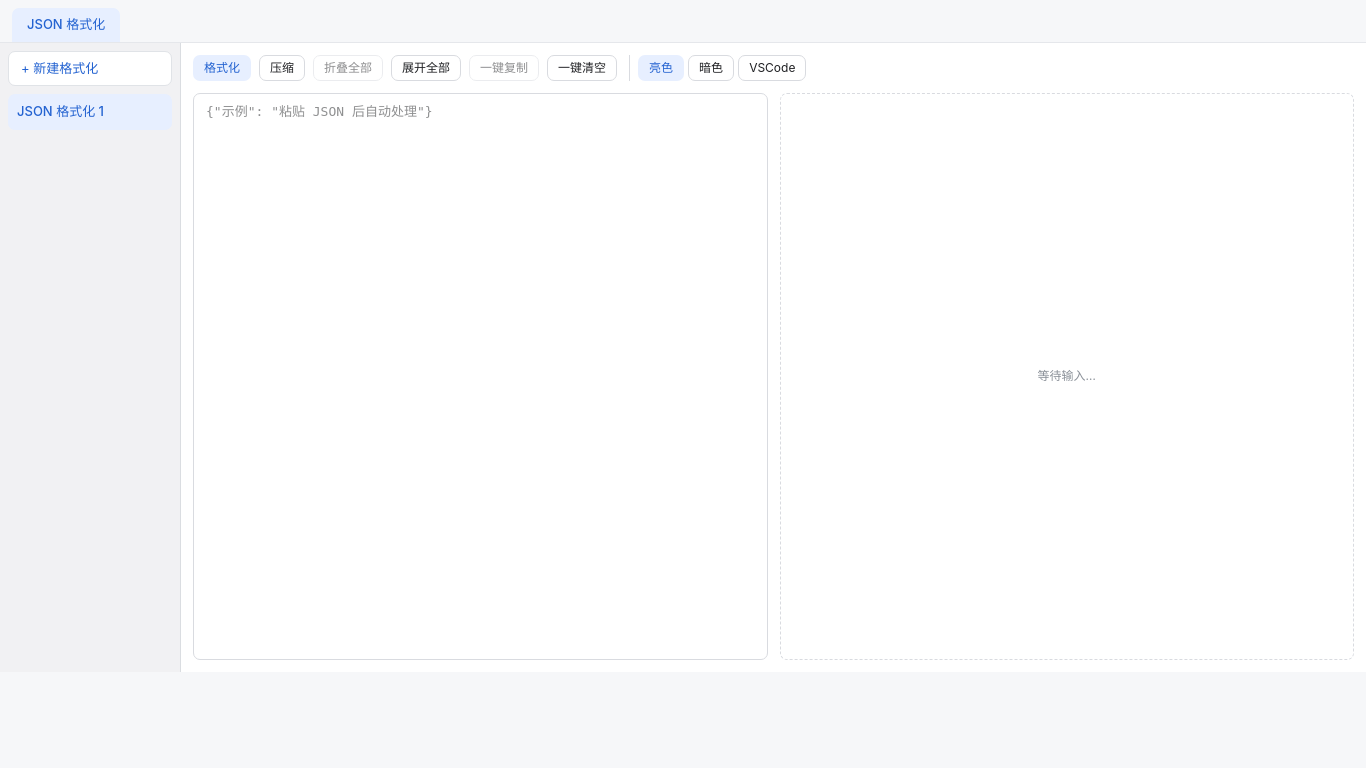
ToolsPage JSON 工具 › renames a tab by double-clicking its title and confirms with Enter
This screenshot has width=1366, height=768.
Check: the text box named "JSON 输入" is shown, box 193,92 -> 768,660
Double-click the button "JSON 格式化 1" at (77, 112), box 9,95 -> 145,128
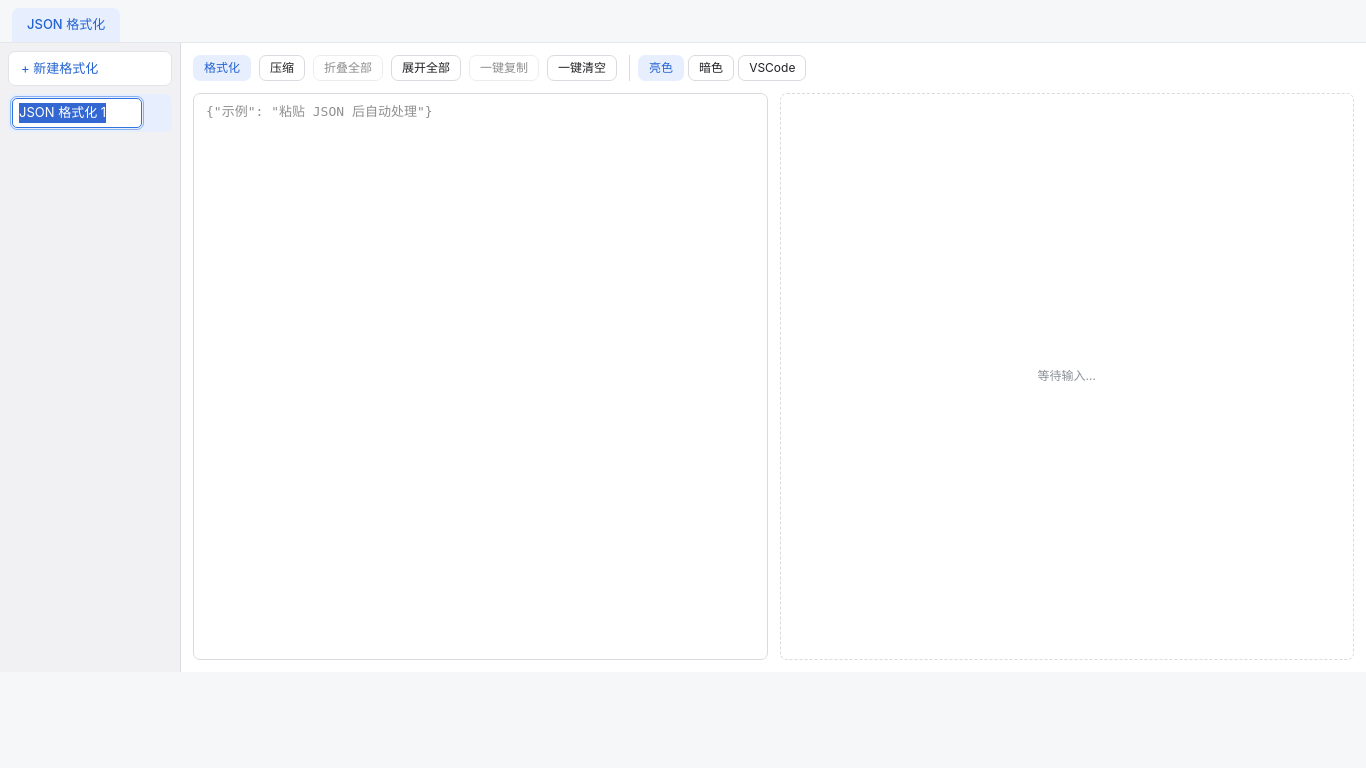
Replace the text in the field named "页签名称" with "接口数据" at (77, 113), box 12,98 -> 142,128
Then press Enter
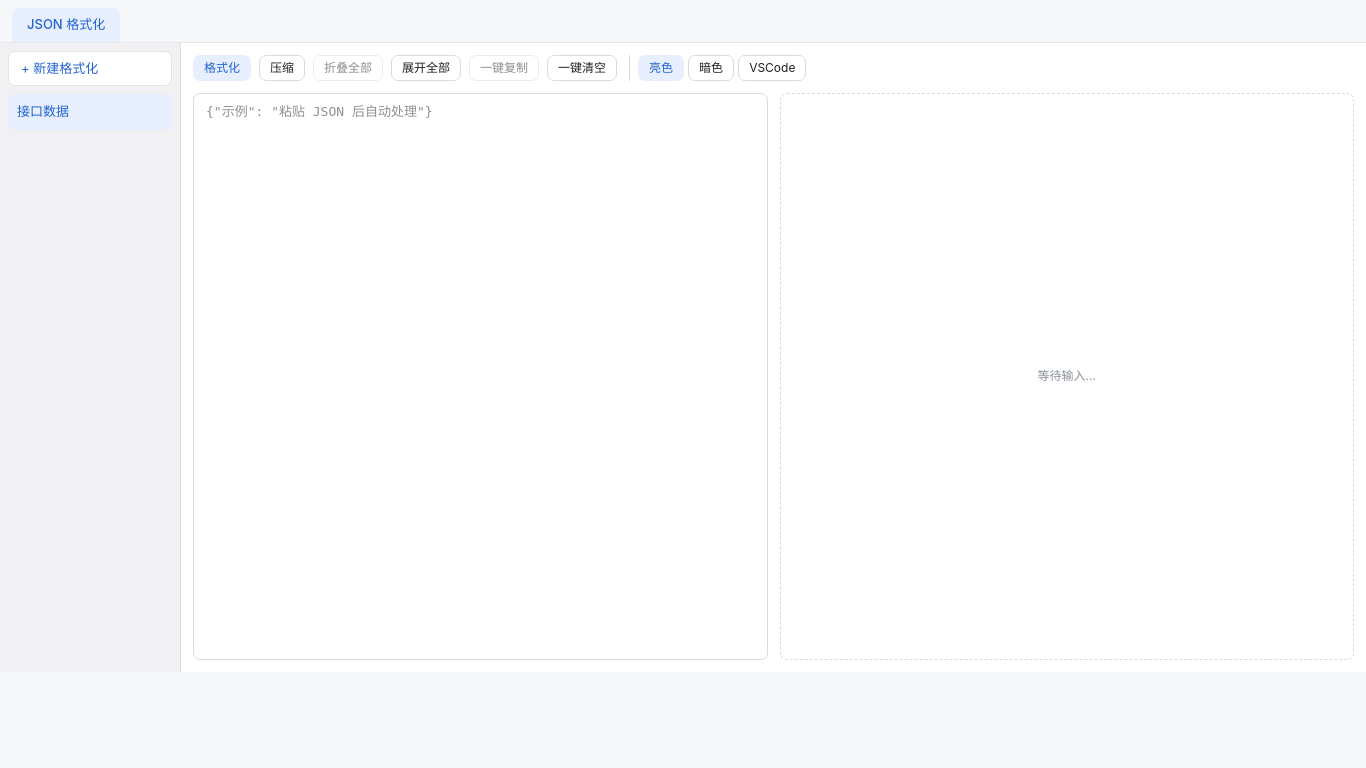
Check: the button "接口数据" is shown, box 9,95 -> 145,128
